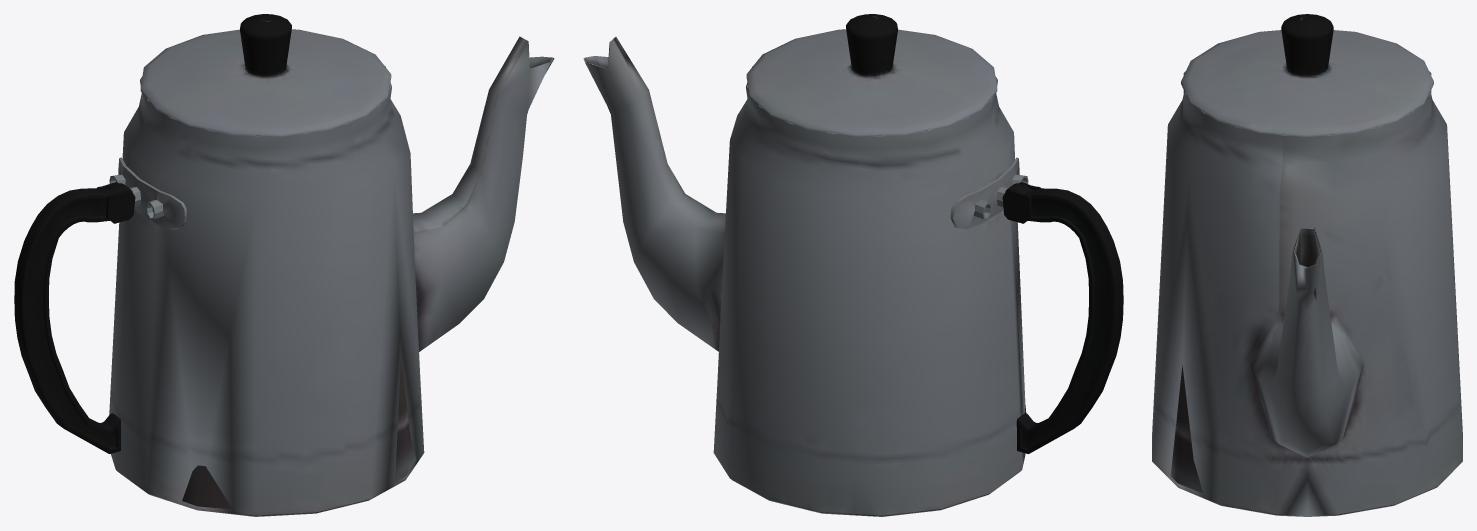
Rendered from kettle.glb.
3 renders of one model, left to right at view 1: azimuth 30°, elevation 25°; view 2: azimuth 150°, elevation 25°; view 3: azimuth 270°, elevation 25°, orthographic.
Parts seen in each view (by area): view 1: Circle.004_Kettle_0; view 2: Circle.004_Kettle_0; view 3: Circle.004_Kettle_0.
Boxes of the visible parts, box(x1,y1,x2,y2) form: Circle.004_Kettle_0: box(14, 14, 554, 516); Circle.004_Kettle_0: box(583, 14, 1123, 516); Circle.004_Kettle_0: box(1152, 14, 1462, 516).
Bounding box in the file's own units: 0.1976 × 0.1521 × 0.0992.
Materials: 1 (1 with a texture image).
